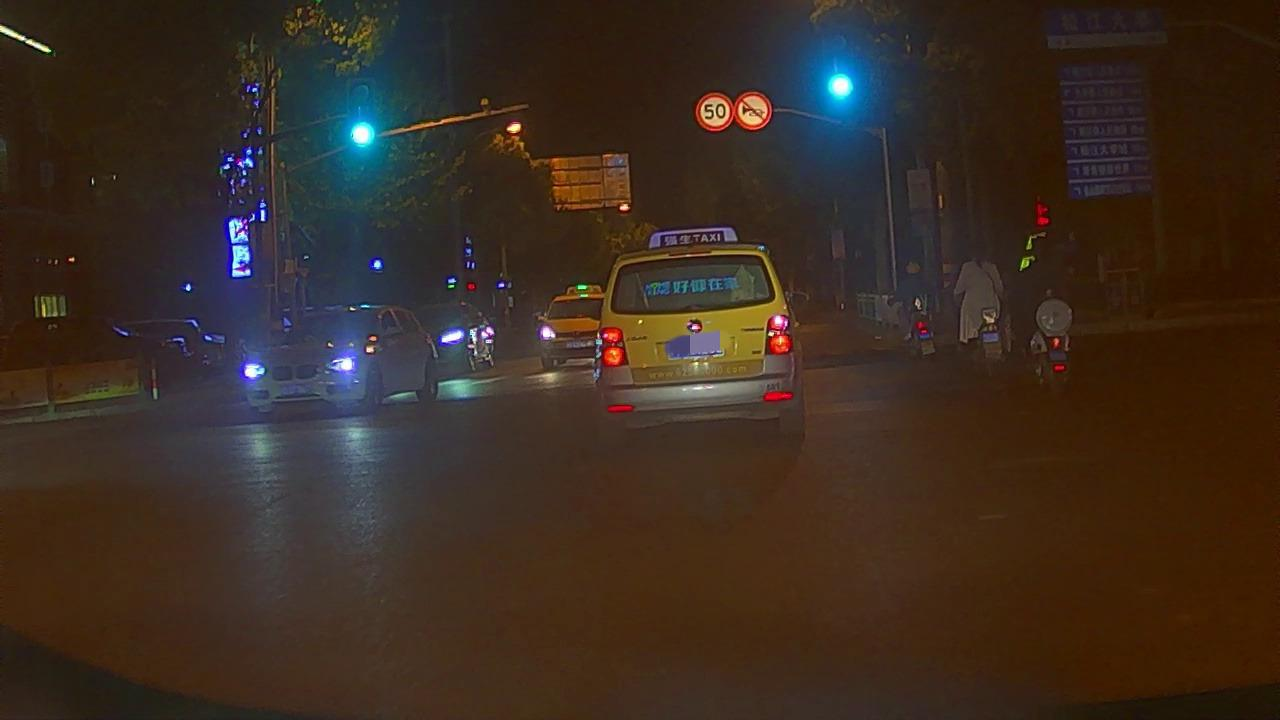traffic_light: (345, 112, 380, 151), (823, 67, 858, 106)
